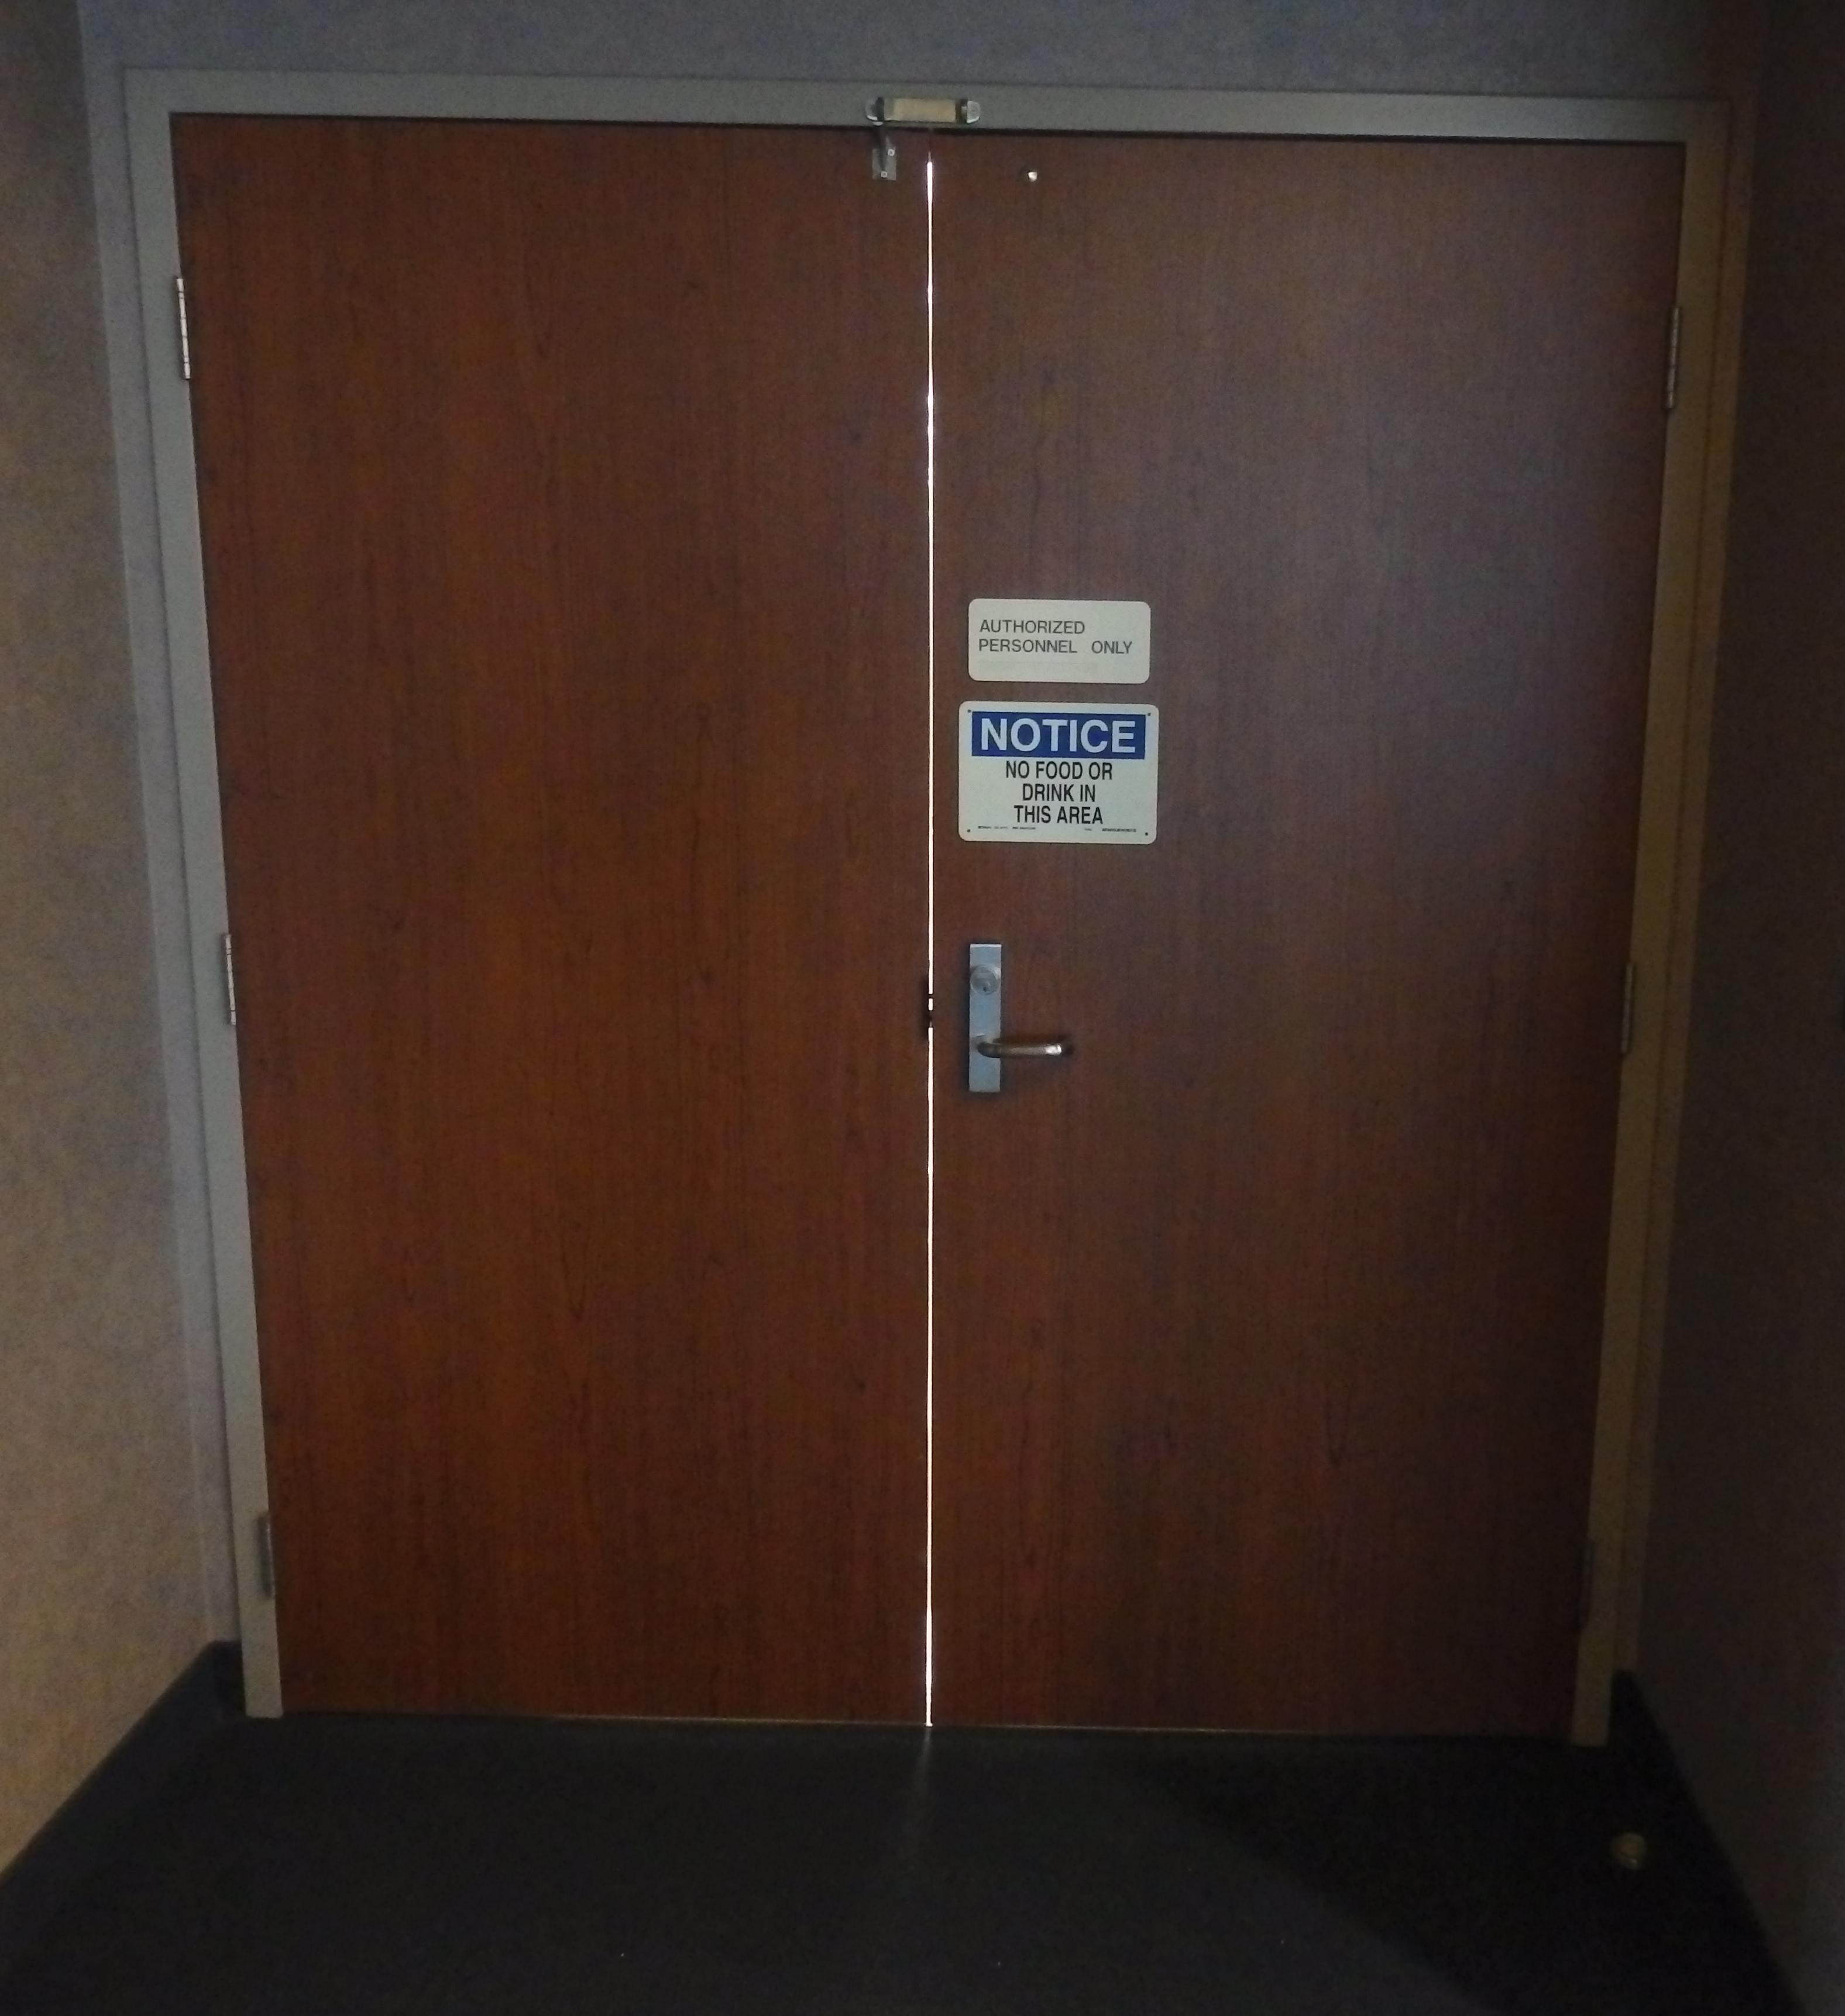door: (112, 68, 1690, 1774)
